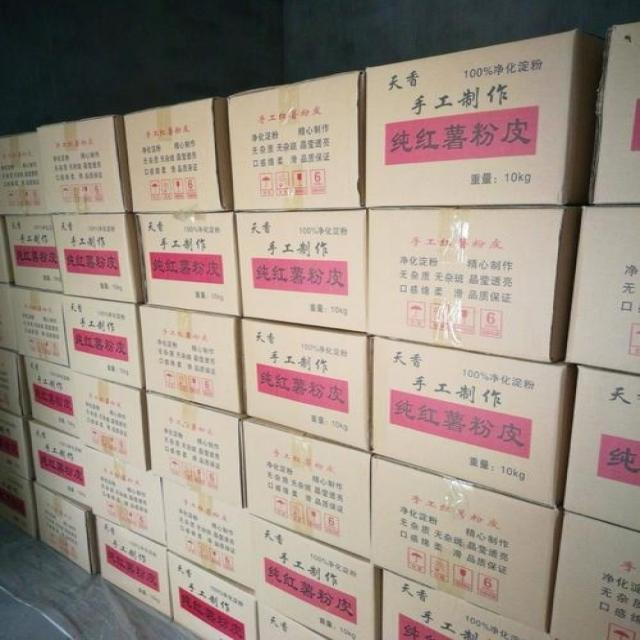box: (365, 29, 607, 208), (371, 337, 579, 509), (371, 456, 563, 633), (369, 206, 582, 364), (227, 69, 366, 211), (242, 416, 372, 559), (239, 318, 370, 452), (246, 513, 380, 639), (236, 209, 369, 332), (563, 206, 640, 375), (123, 97, 232, 213), (563, 367, 640, 531), (381, 570, 552, 640), (550, 510, 640, 640), (143, 392, 243, 509), (138, 304, 242, 415), (133, 213, 239, 316), (163, 479, 255, 590), (37, 115, 129, 214), (590, 22, 640, 204), (50, 213, 142, 303), (86, 446, 165, 546), (95, 515, 170, 619), (69, 370, 147, 470), (61, 294, 143, 389), (168, 552, 253, 640), (33, 485, 99, 574), (28, 419, 91, 509), (10, 286, 68, 367), (5, 215, 63, 292), (24, 357, 78, 438), (0, 131, 46, 215), (0, 467, 37, 539), (0, 408, 35, 482), (259, 601, 325, 639), (0, 347, 31, 416)
